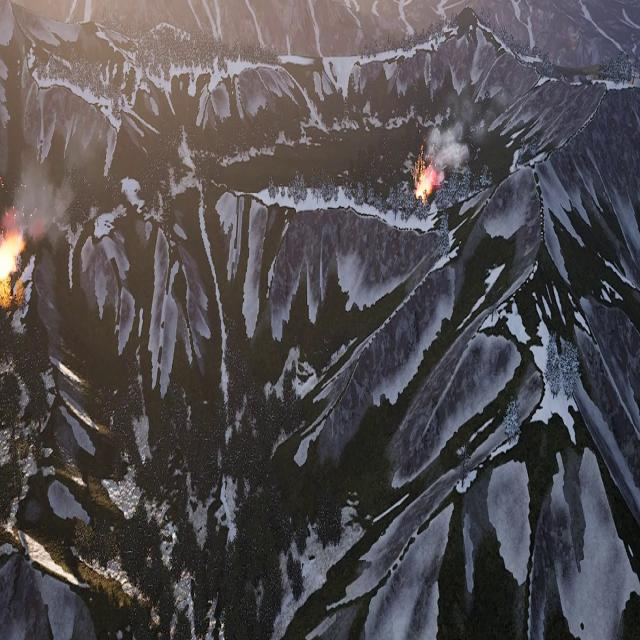fire: (0, 233, 24, 289), (416, 167, 436, 200)
smoke: (4, 155, 76, 243), (423, 108, 485, 174)
